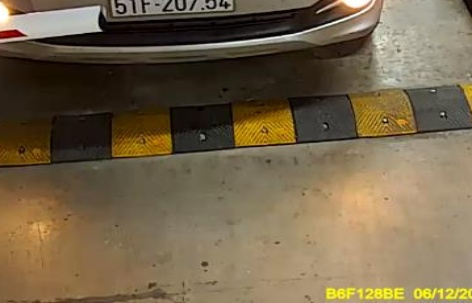plate: (108, 1, 236, 22)
